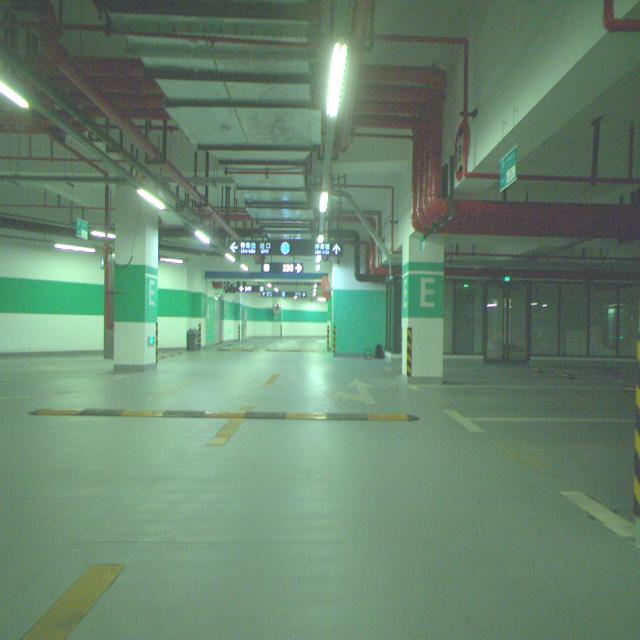pillar: (115, 186, 159, 371), (401, 233, 444, 383)
